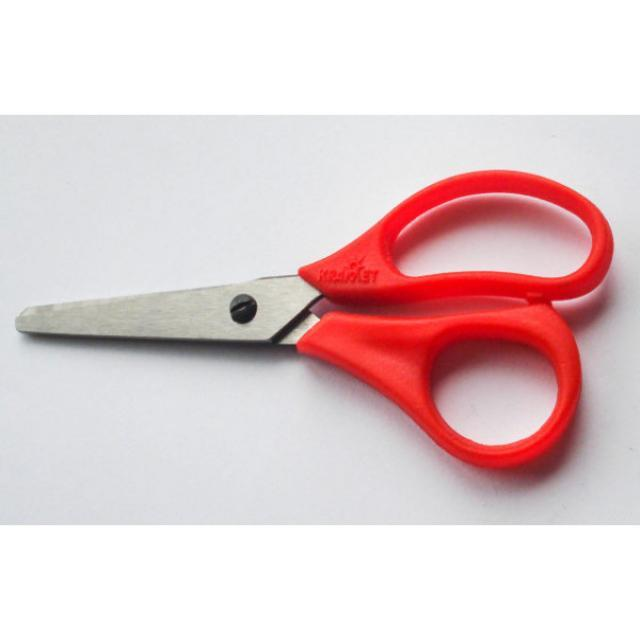tesoura: (11, 163, 619, 472)
